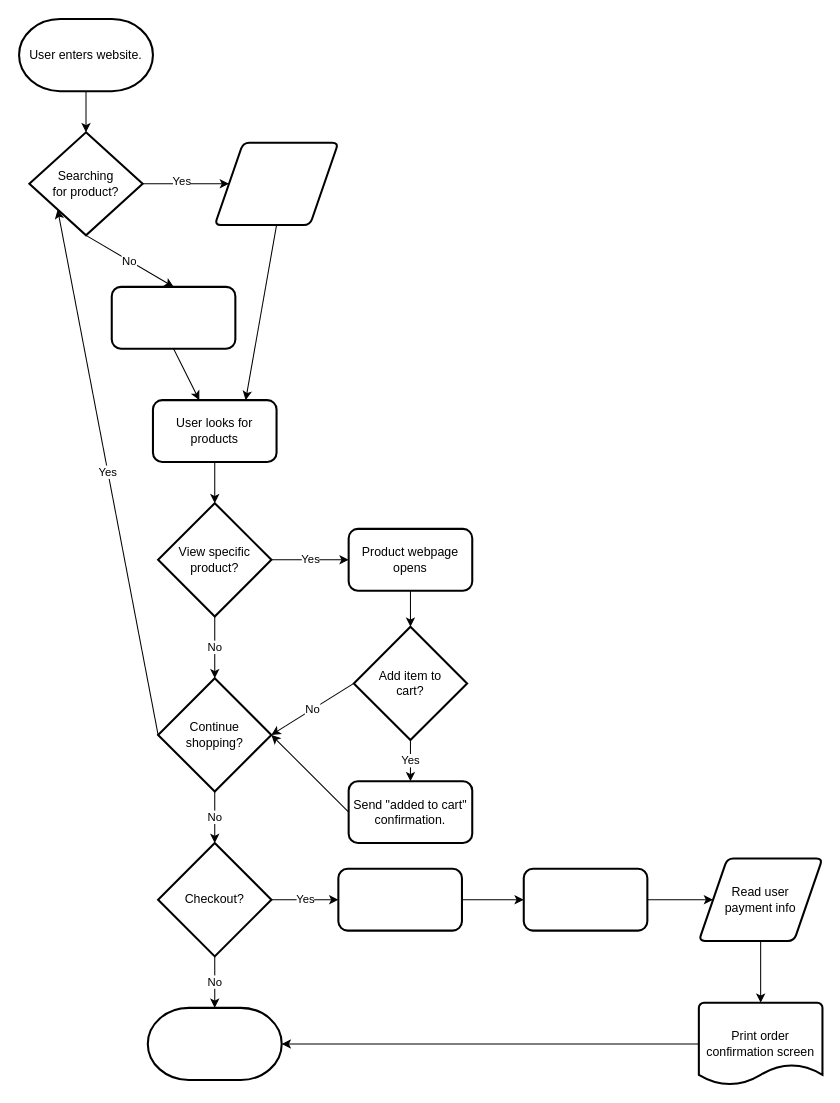
The diagram is 840 pixels wide and 1103 high, and some of its shapes have lost their labels. Each missing label, with the centre of its shape:
"Go to Payment screen" goes at point 585,899.
"Read user product search" goes at point 276,183.
"Redirect to View Cart screen" goes at point 399,899.
"User exits website." goes at point 214,1043.
"User stays on home page" goes at point 173,317.
